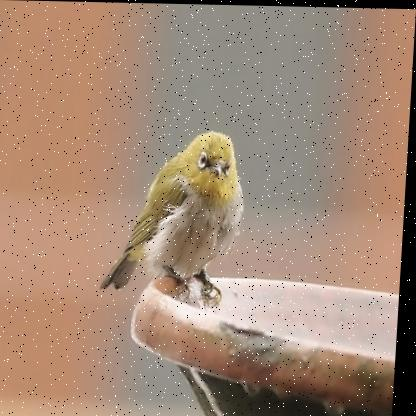Burung: (103, 128, 251, 302)
